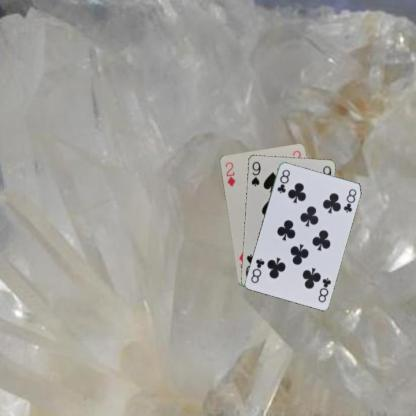2d: (222, 159, 236, 188)
8c: (274, 166, 292, 195), (316, 274, 332, 304)
9s: (248, 158, 262, 188)
